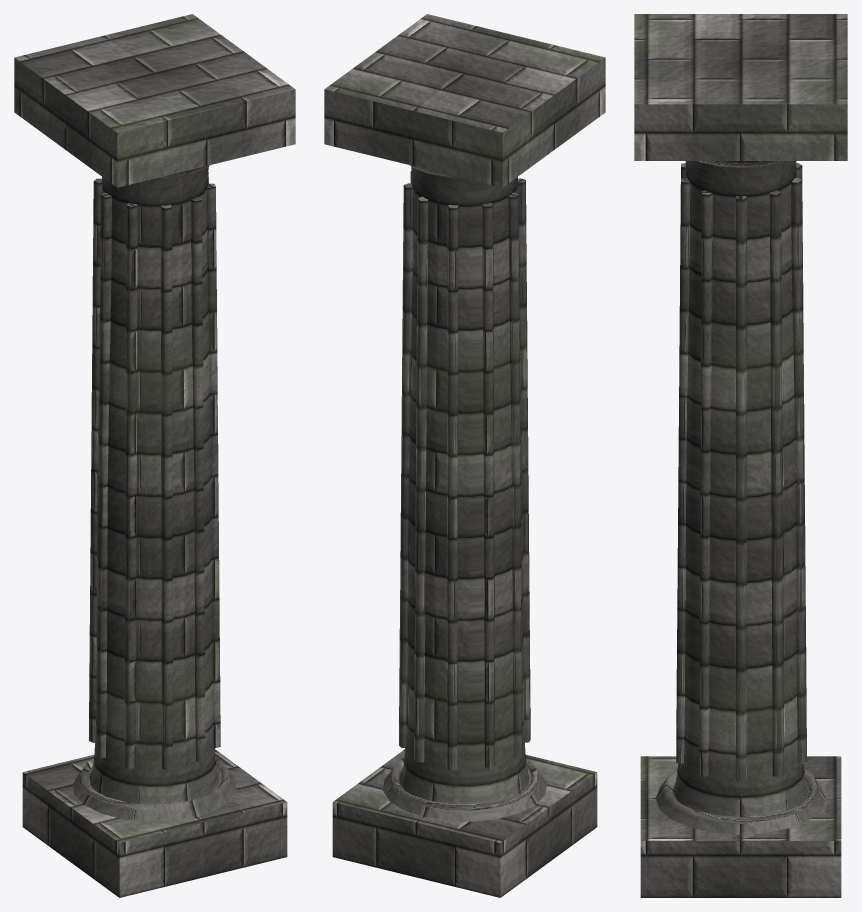
File: pillar.obj
3 renders of one model, left to right at view 1: azimuth 30°, elevation 25°; view 2: azimuth 150°, elevation 25°; view 3: azimuth 270°, elevation 25°, orthographic. The views are drawn at different scales.
Size of the model in its own units: 1.7 by 7 by 1.7.
Materials: 1 (1 with a texture image).
